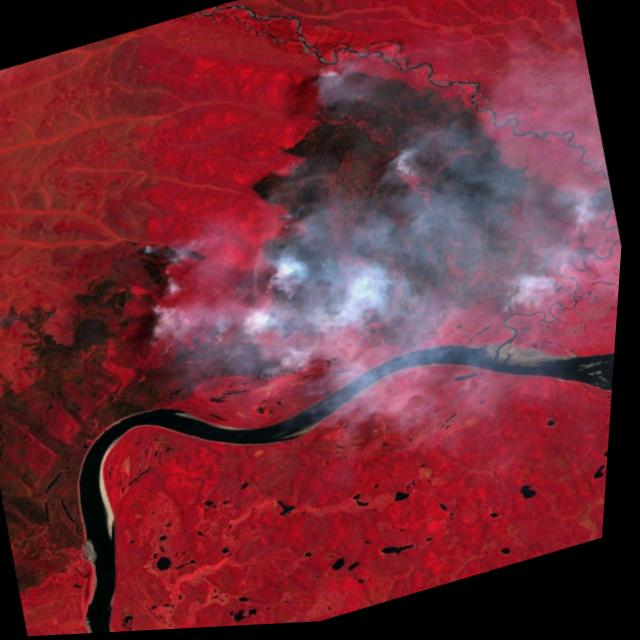fire: (84, 14, 588, 429)
